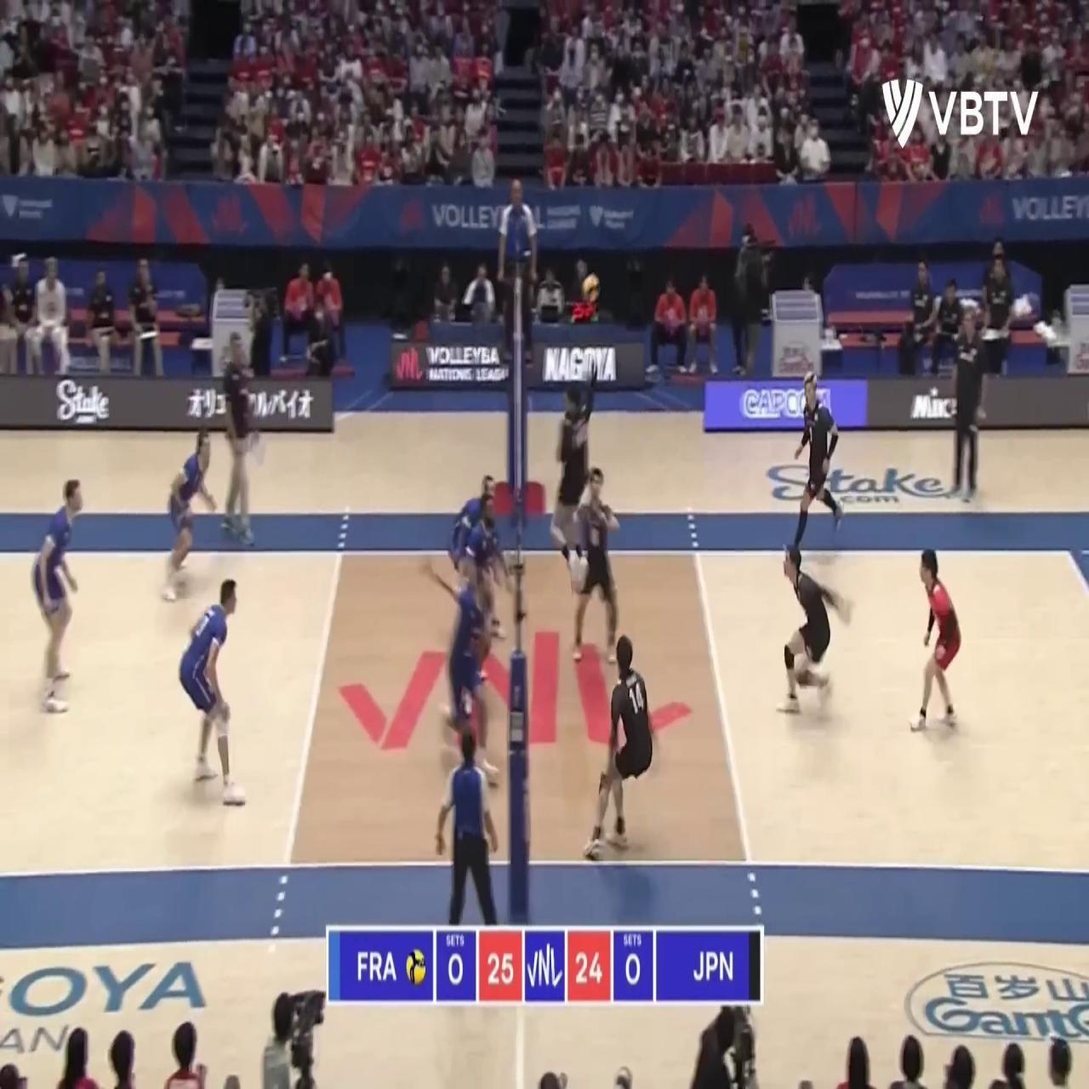ball: (582, 272, 600, 301)
